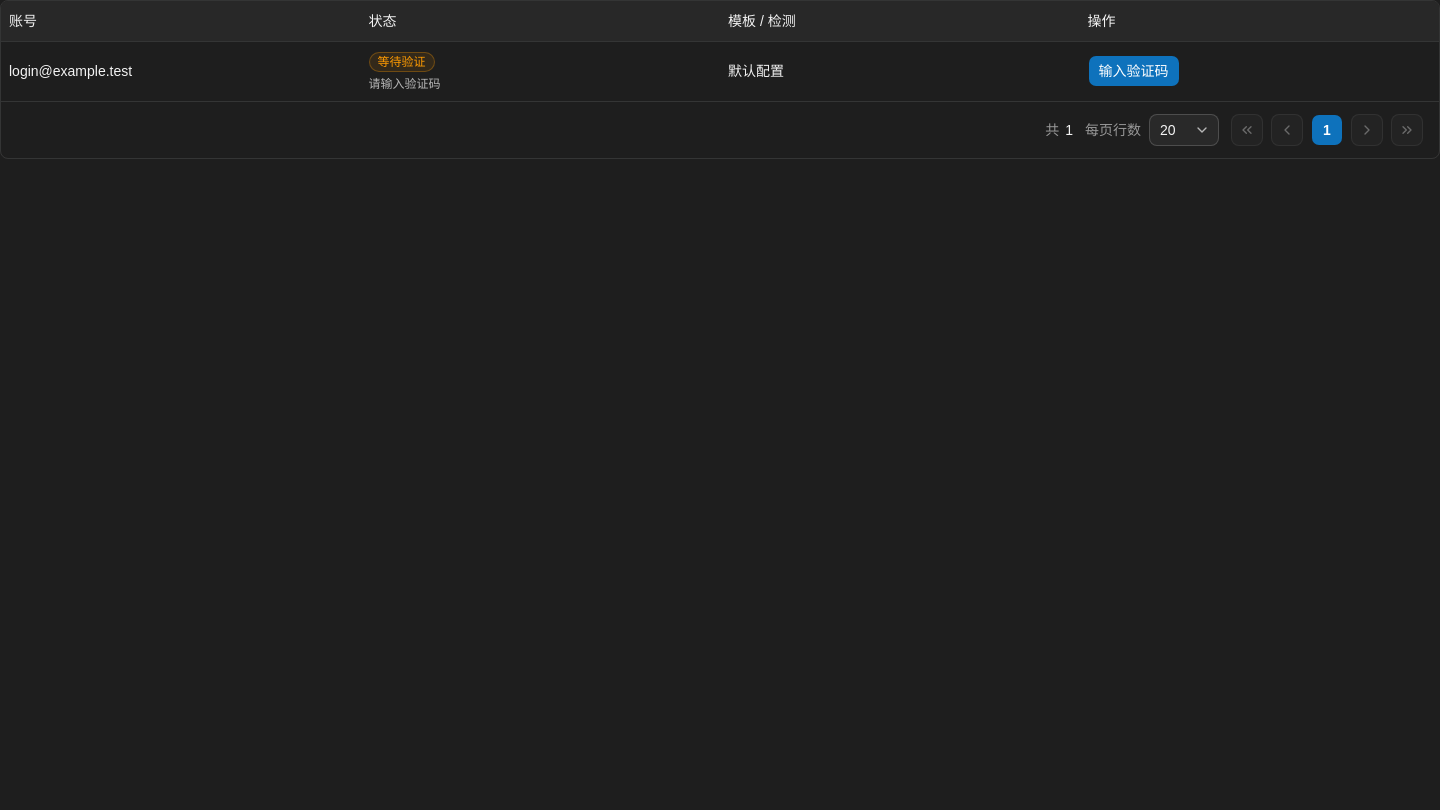
Test: 验证码不足六位时展示字段提示并且不发送请求
The width and height of the screenshot is (1440, 810).
Click the button "输入验证码" at (1134, 71), box 1088,55 -> 1180,87
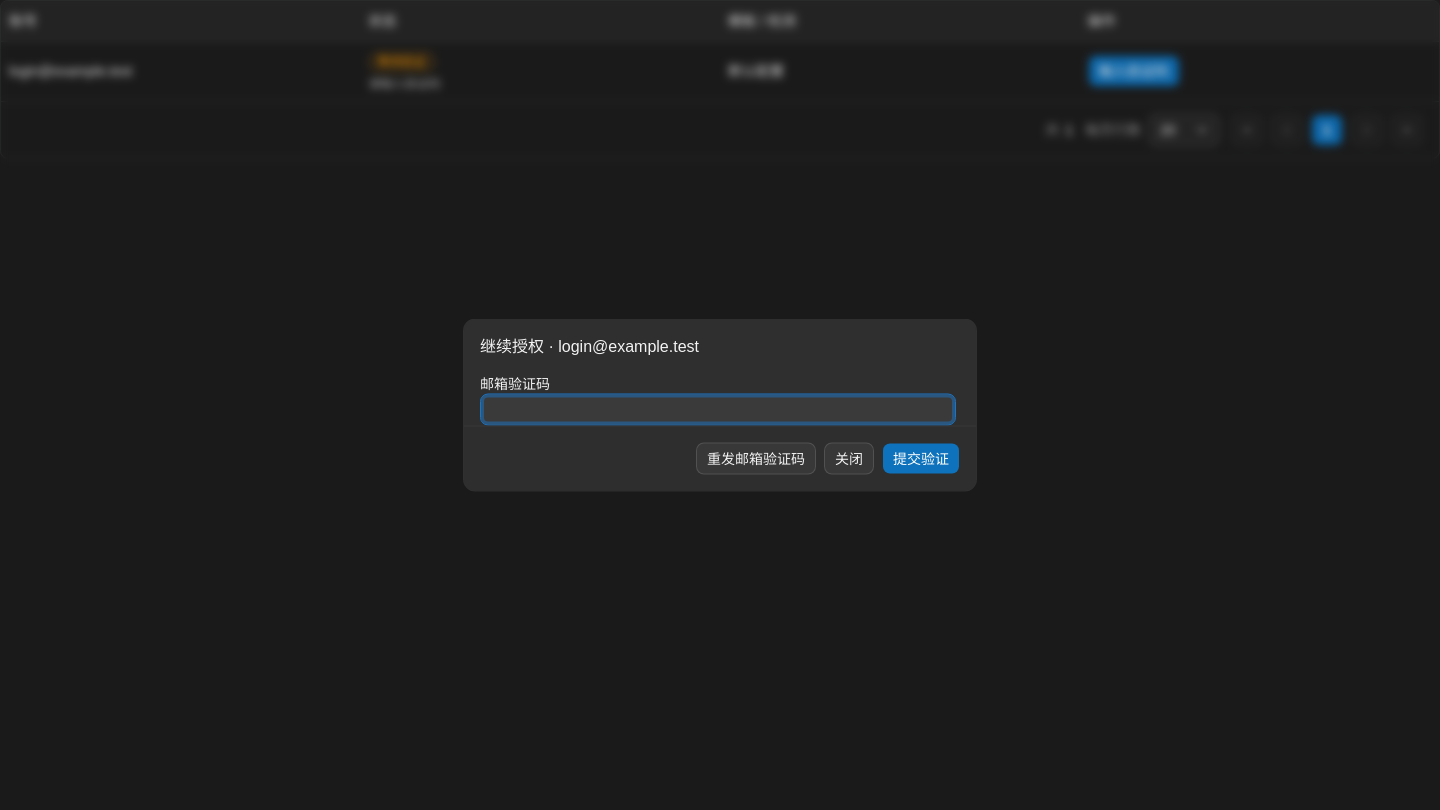
Type "123" into the field labelled "邮箱验证码" at (718, 410), box 480,394 -> 956,426
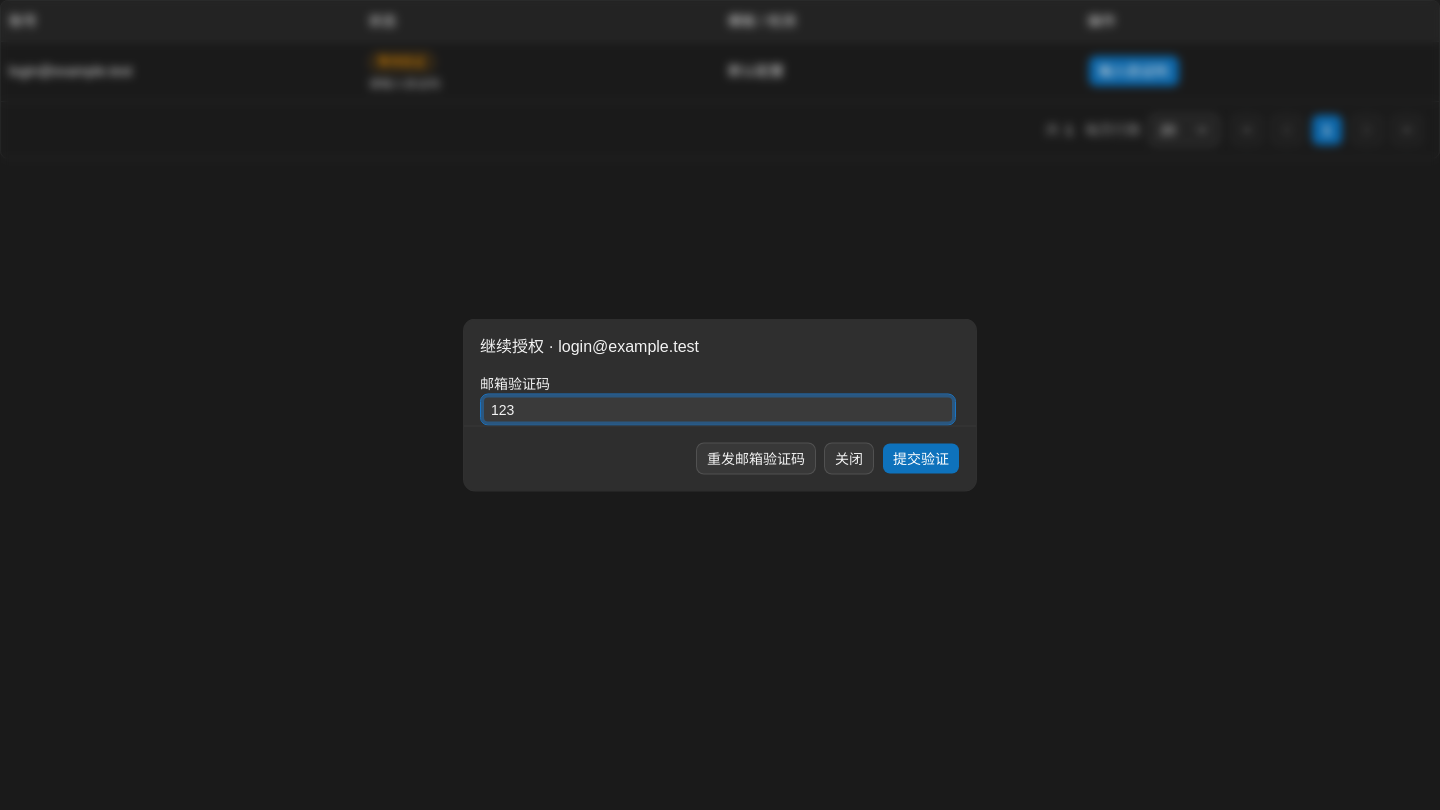
Click the button "提交验证" at (921, 458), box 882,442 -> 960,474
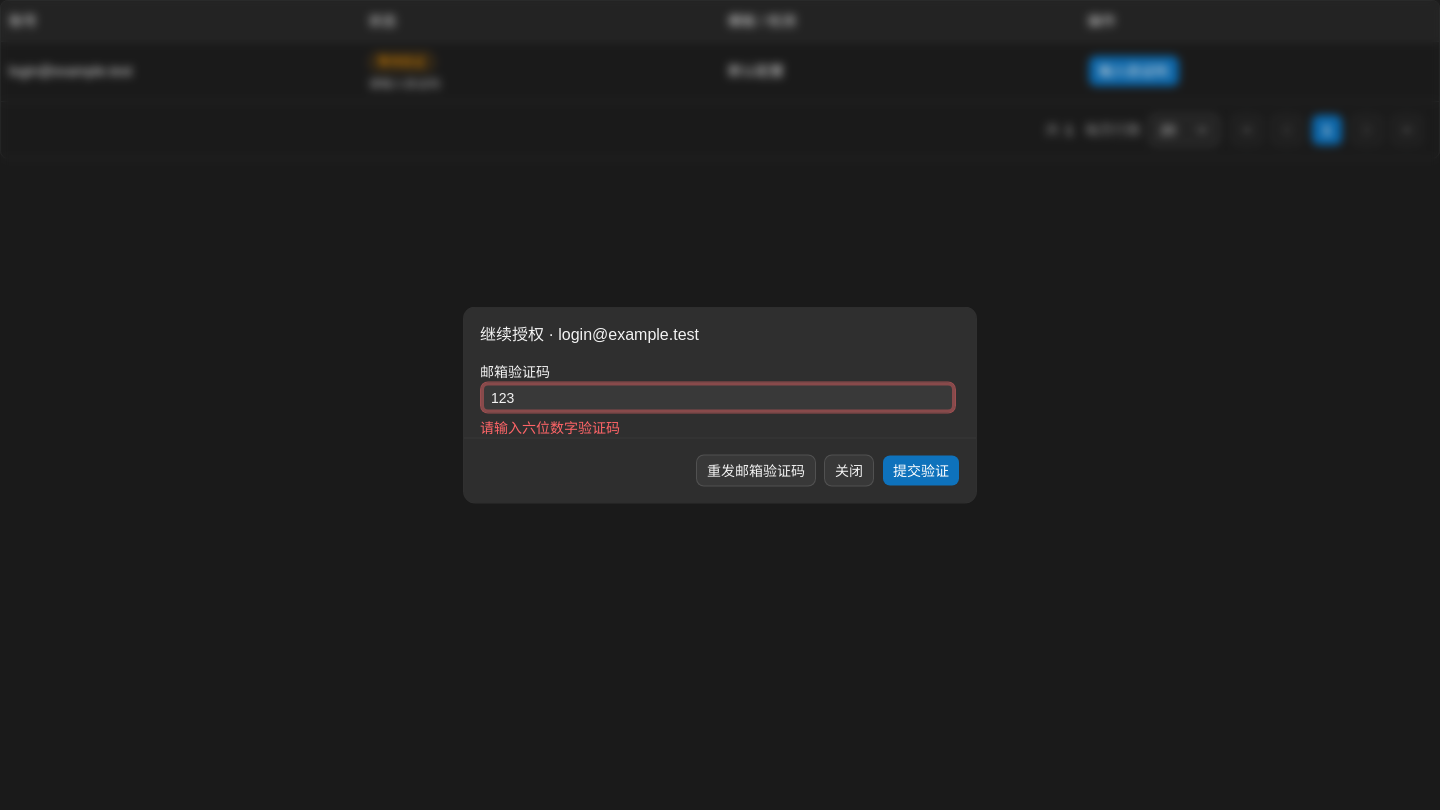
Check: the text "请输入六位数字验证码" is shown, box 480,420 -> 620,436
